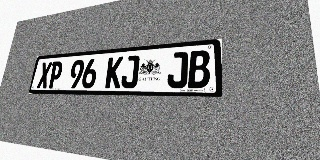6: (81, 58, 99, 88)
9: (68, 59, 85, 88)
B: (188, 50, 210, 88)
J: (167, 51, 188, 88), (120, 55, 140, 88)
K: (105, 56, 123, 88)
P: (47, 61, 64, 88)
X: (36, 62, 52, 88)
